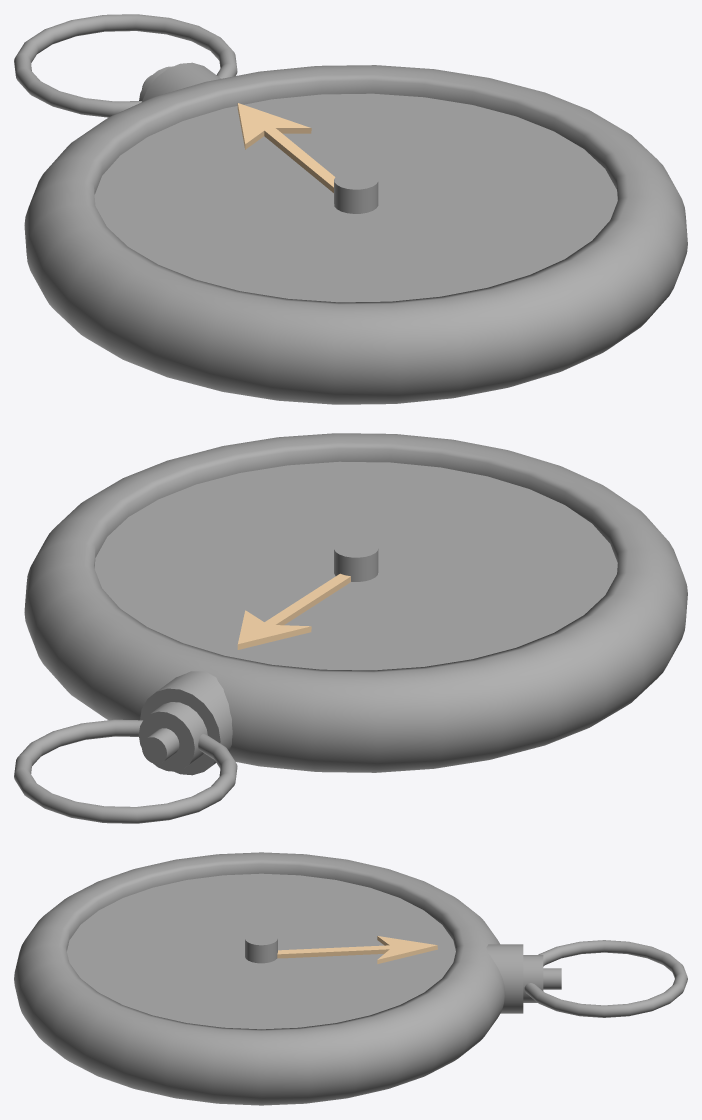
Rendered from pocket_watch.fbx.
The picture shows the model from 3 angles, top to bottom: view 1: azimuth 30°, elevation 25°; view 2: azimuth 150°, elevation 25°; view 3: azimuth 270°, elevation 25°; orthographic projection. The views are drawn at different scales.
Visible parts, largest first — view 1: polySurface1, polySurface2, pTorus2, pPlane1, pCylinder4, pCylinder1; view 2: polySurface1, polySurface2, pTorus2, pCylinder1, pCylinder2, pPlane1, pCylinder4, pCylinder3; view 3: polySurface1, polySurface2, pTorus2, pPlane1, pCylinder1, pCylinder4, pCylinder2, pCylinder3.
Boxes of the visible parts, x1,y1,x2,y2 form: polySurface1: (24,65,687,404); polySurface2: (94,93,617,302); pTorus2: (14,14,237,117); pPlane1: (237,103,335,192); pCylinder4: (334,171,378,213); pCylinder1: (142,62,220,101); polySurface1: (24,433,687,772); polySurface2: (94,461,617,670); pTorus2: (14,719,237,823); pCylinder1: (140,671,232,775); pCylinder2: (138,702,207,771); pPlane1: (237,573,350,649); pCylinder4: (334,539,378,581); pCylinder3: (142,728,179,764); polySurface1: (14,852,505,1105); polySurface2: (67,873,455,1029); pTorus2: (524,940,687,1017); pPlane1: (277,936,437,963); pCylinder1: (486,944,523,1013); pCylinder4: (245,931,277,963); pCylinder2: (523,955,543,1002); pCylinder3: (543,968,561,989).
Bounding box in the file's own units: 141 × 192 × 23.77.
